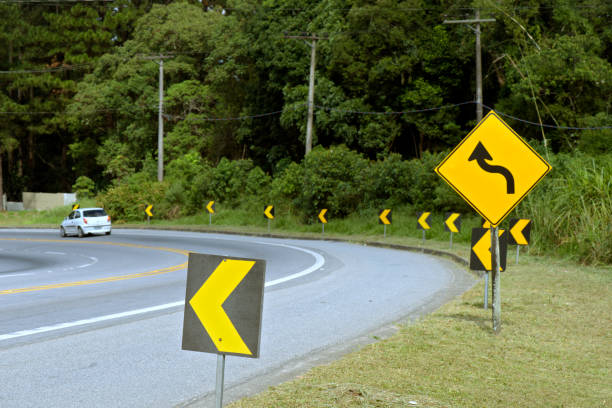car: (60, 208, 112, 237)
left turn: (433, 110, 554, 227), (186, 251, 259, 358), (470, 227, 507, 271), (510, 218, 530, 244), (444, 212, 461, 234), (417, 211, 432, 230), (378, 208, 392, 225), (263, 204, 274, 220), (317, 209, 328, 224), (205, 200, 216, 215), (143, 204, 154, 216), (70, 205, 80, 214)
